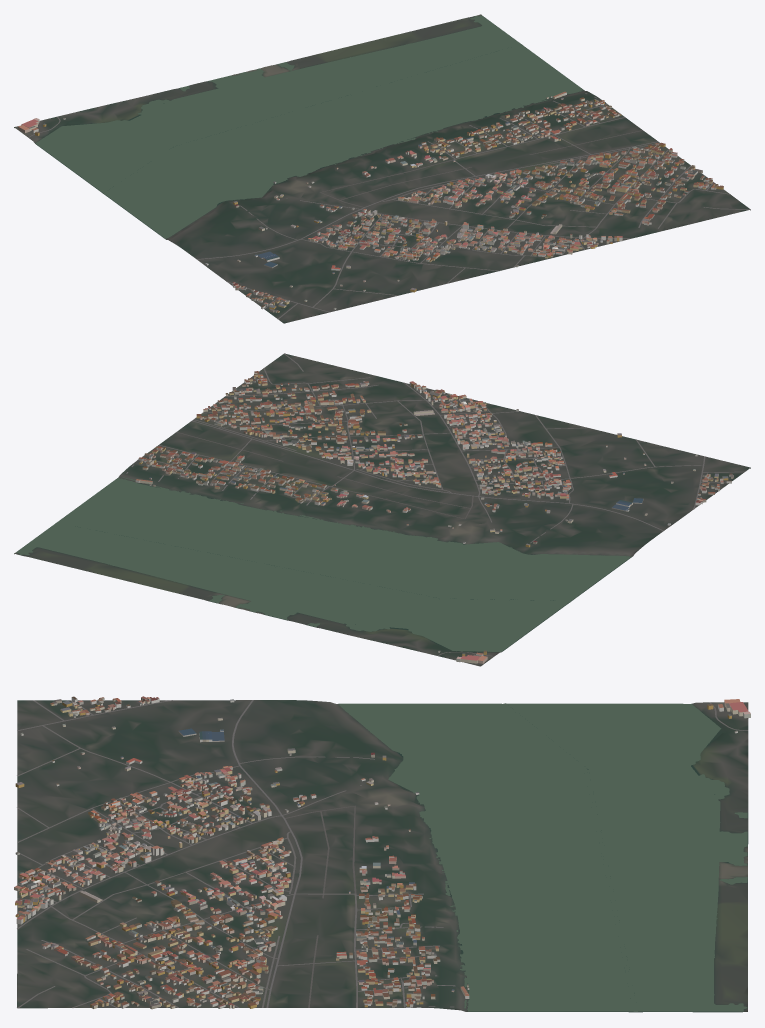
3 views of the same model, one above another, from view 1: azimuth 30°, elevation 25°; view 2: azimuth 150°, elevation 25°; view 3: azimuth 270°, elevation 25° (orthographic). The views are drawn at different scales.
Visible parts, largest first — view 1: ground, water, buildings, roads; view 2: ground, water, buildings, roads; view 3: ground, water, buildings, roads.
Part boxes in pixels (left/top/right/bottom): ground: left=14, top=14, right=750, bottom=323; water: left=35, top=15, right=583, bottom=238; buildings: left=18, top=91, right=723, bottom=312; roads: left=28, top=93, right=750, bottom=319; ground: left=14, top=353, right=750, bottom=666; water: left=16, top=477, right=631, bottom=651; buildings: left=135, top=371, right=733, bottom=663; roads: left=126, top=353, right=744, bottom=656; ground: left=17, top=700, right=748, bottom=1012; water: left=338, top=703, right=747, bottom=1011; buildings: left=14, top=696, right=750, bottom=1009; roads: left=17, top=700, right=748, bottom=1008.
Bounding box in the file's own units: 1410 × 25.15 × 1414.
